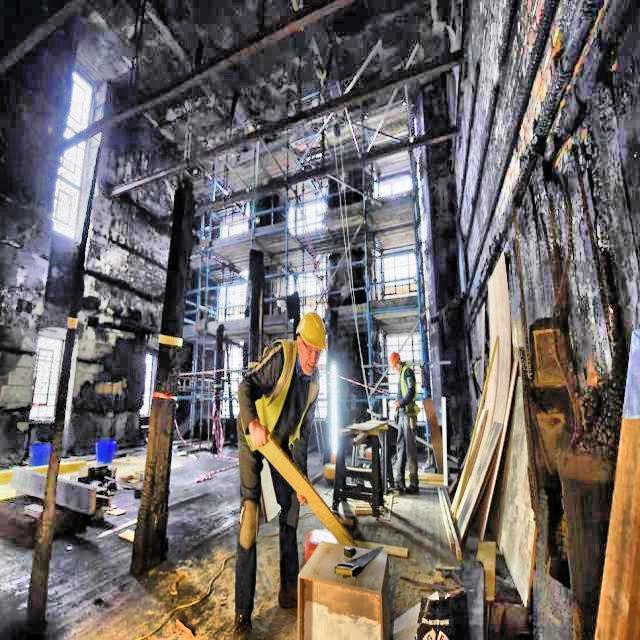person: (230, 301, 328, 634)
